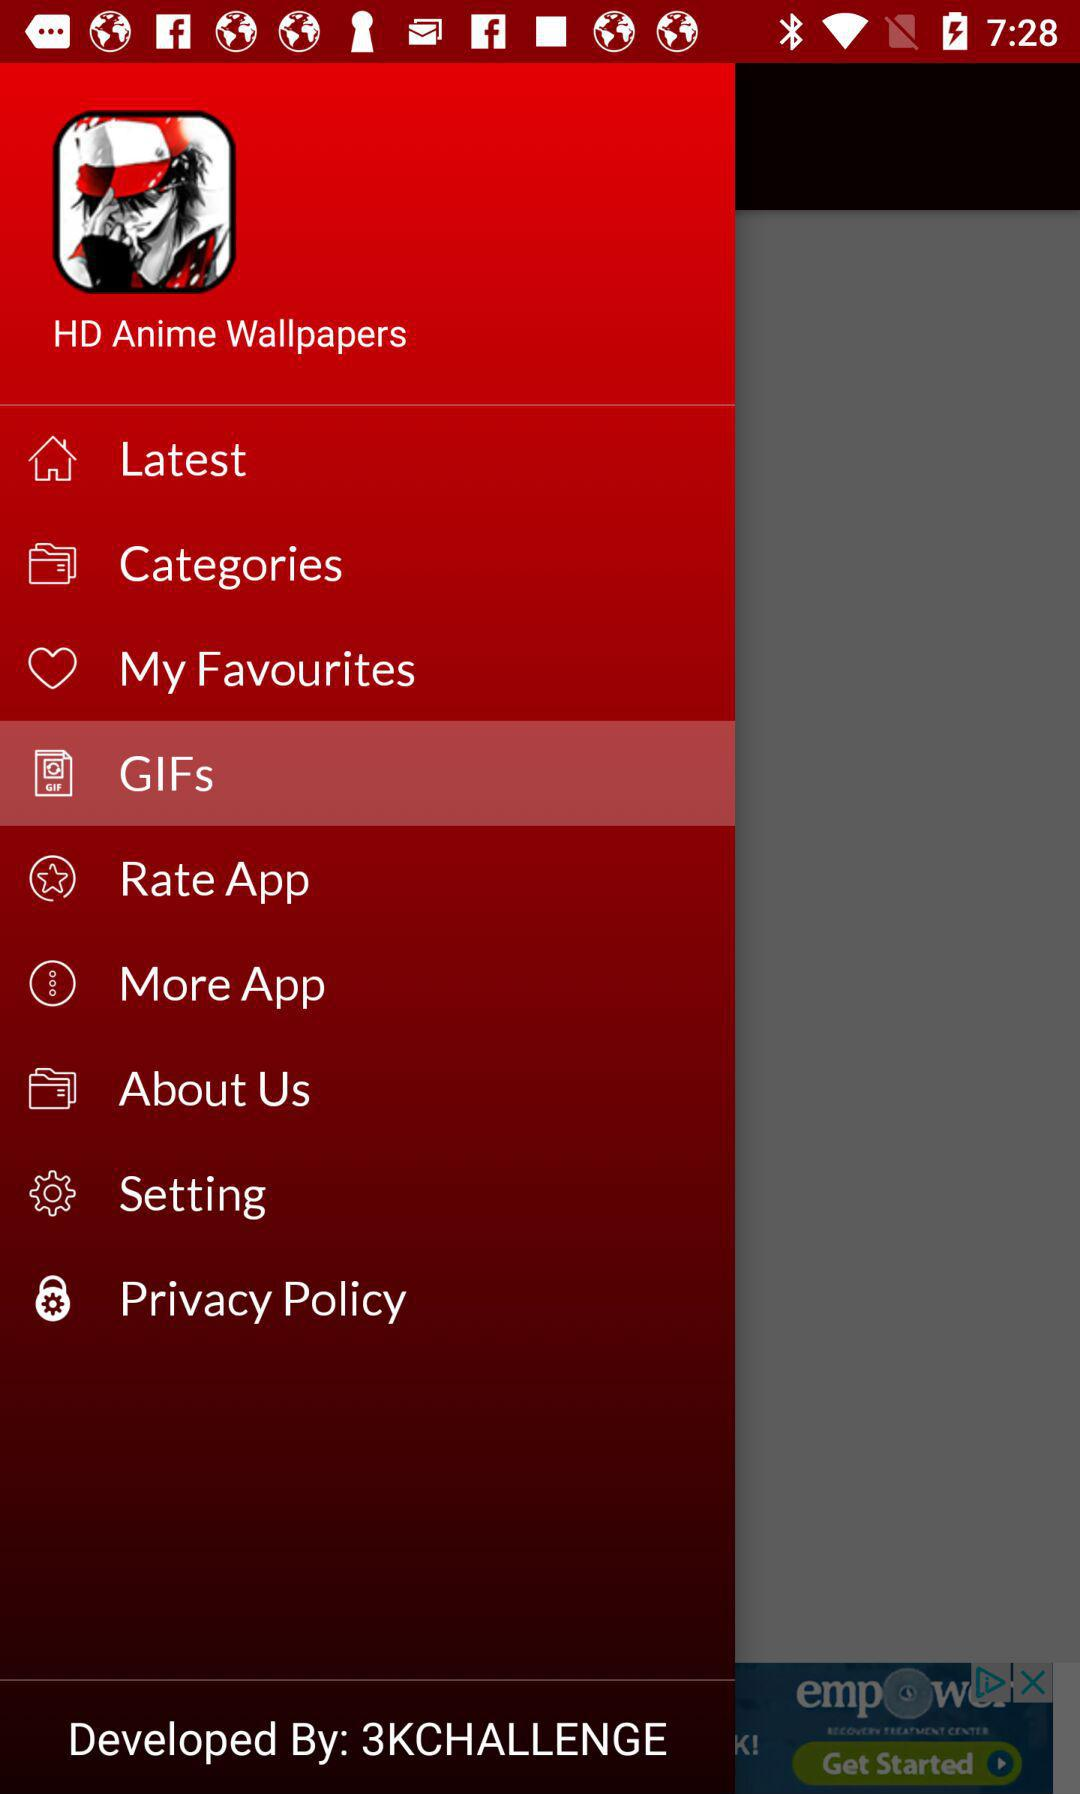Drawer: (1, 65, 735, 1794)
Icon: (28, 434, 79, 483), (29, 1169, 78, 1219), (29, 960, 78, 1008), (29, 855, 78, 903), (28, 1067, 79, 1112), (28, 646, 79, 691), (28, 542, 78, 586), (35, 748, 76, 800), (35, 1274, 72, 1322)
Image: (53, 110, 237, 293)
Text: (69, 1720, 667, 1767), (54, 317, 407, 358), (120, 650, 416, 698), (120, 1278, 407, 1326), (120, 545, 346, 592), (120, 964, 327, 1011), (120, 860, 310, 906), (118, 1069, 313, 1110), (120, 1174, 269, 1222), (120, 441, 249, 481), (120, 755, 215, 794)
UpperTaskBar: (1, 1, 1080, 64)
